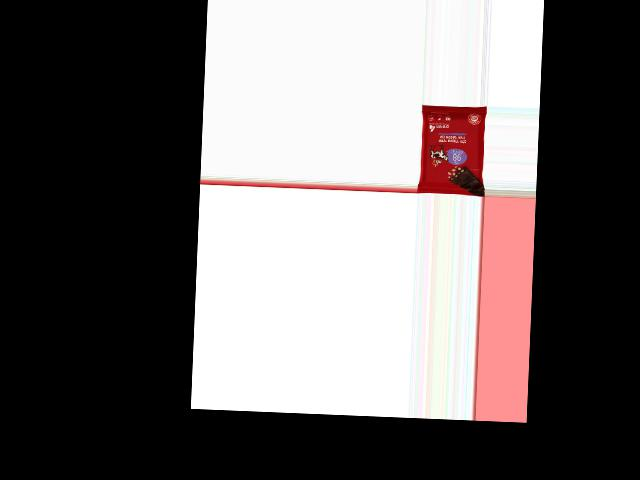chocolate: (417, 103, 485, 195)
